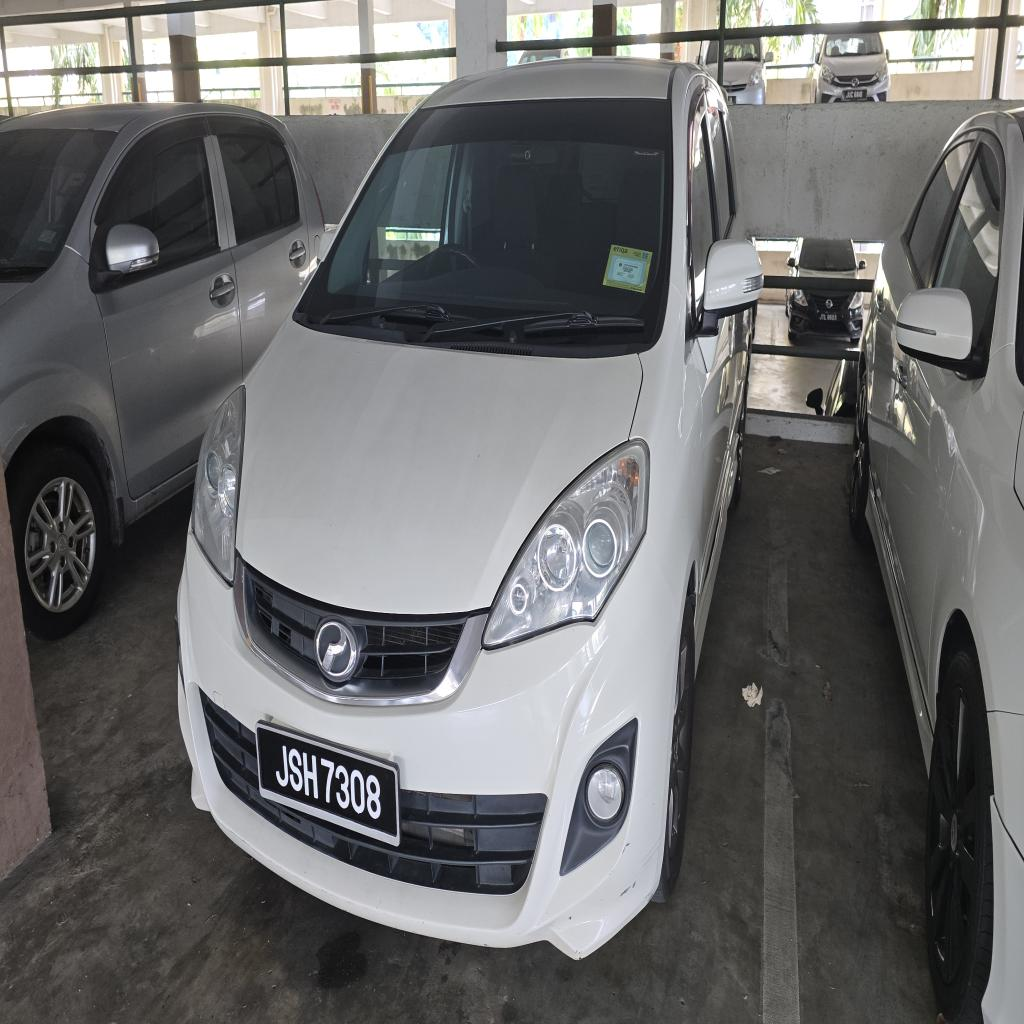car: (178, 60, 762, 957)
car plate: (256, 723, 400, 845)
